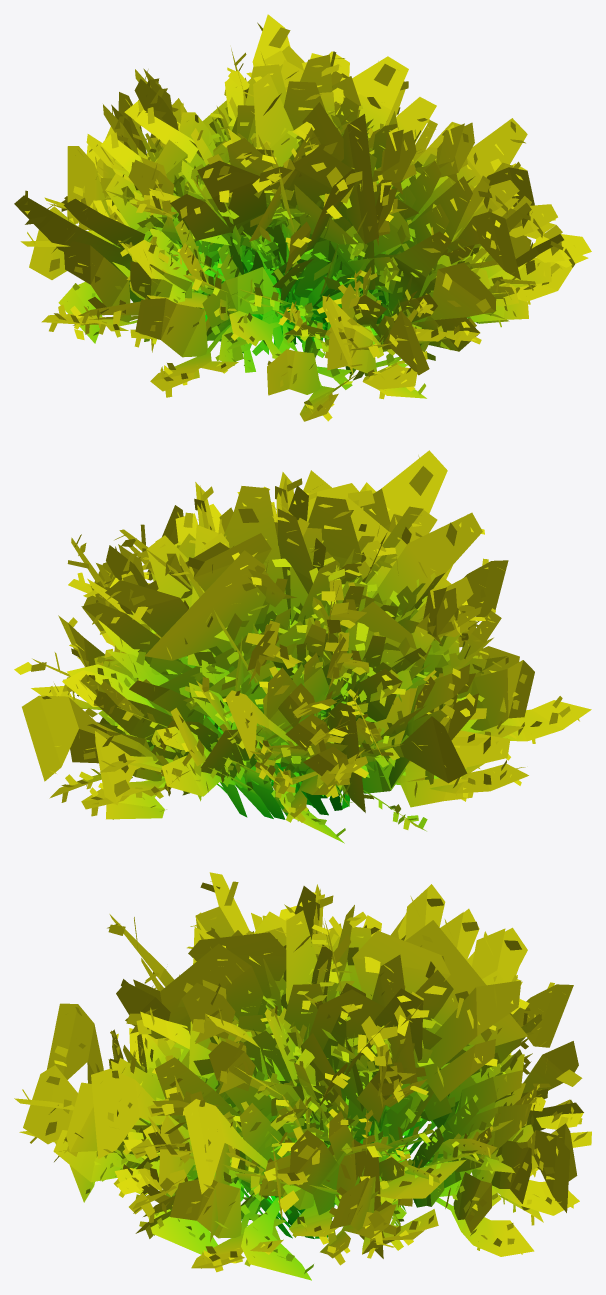
File: Plant_Abelia_01.fbx
3 renders of one model, top to bottom at view 1: azimuth 30°, elevation 25°; view 2: azimuth 150°, elevation 25°; view 3: azimuth 270°, elevation 25°, orthographic. The views are drawn at different scales.
Visible parts, largest first — view 1: Abelia Bush (combined); view 2: Abelia Bush (combined); view 3: Abelia Bush (combined).
Boxes of the visible parts, x1,y1,x2,y2 form: Abelia Bush (combined): (14,14,591,421); Abelia Bush (combined): (14,450,591,843); Abelia Bush (combined): (14,872,591,1280).
Bounding box in the file's own units: 4.19 × 2.29 × 4.07.
